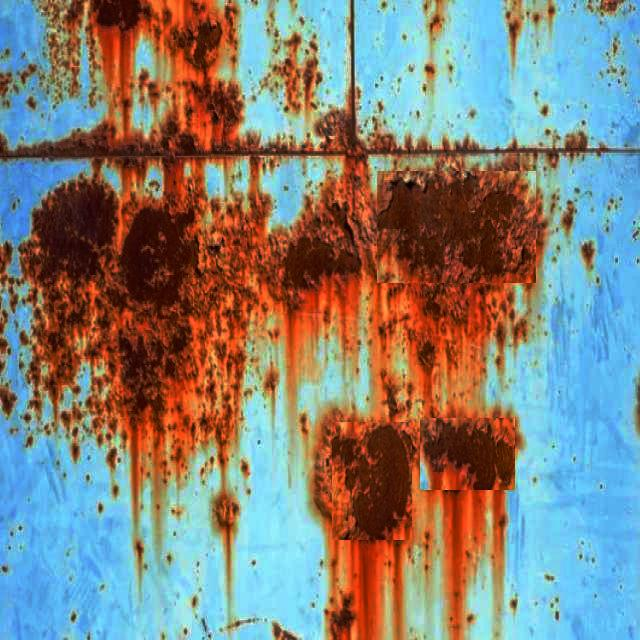Corrosion: (316, 420, 515, 640), (43, 263, 253, 466), (111, 194, 266, 362), (91, 0, 243, 154), (90, 0, 242, 151), (276, 185, 388, 366), (379, 171, 543, 284), (379, 283, 516, 418), (32, 180, 116, 278), (347, 425, 412, 541), (239, 110, 400, 156), (422, 419, 517, 492), (122, 208, 194, 304), (284, 238, 360, 288), (14, 122, 110, 155), (186, 19, 222, 70), (93, 0, 146, 30)
